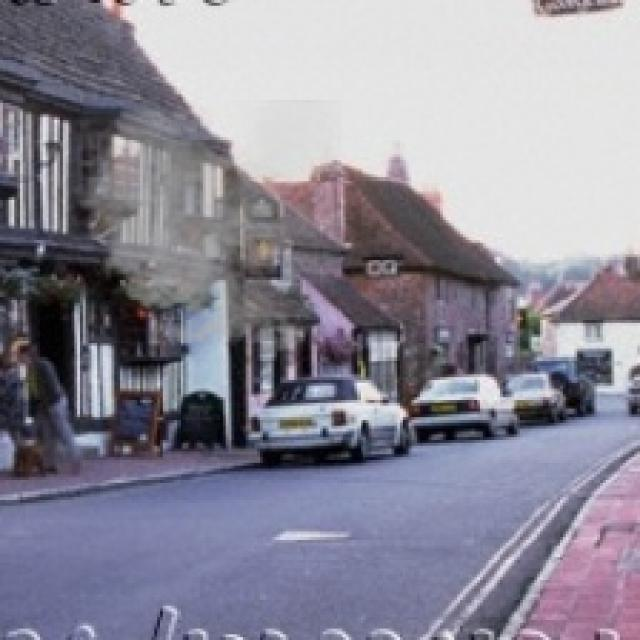Smoke: (66, 100, 340, 360)
